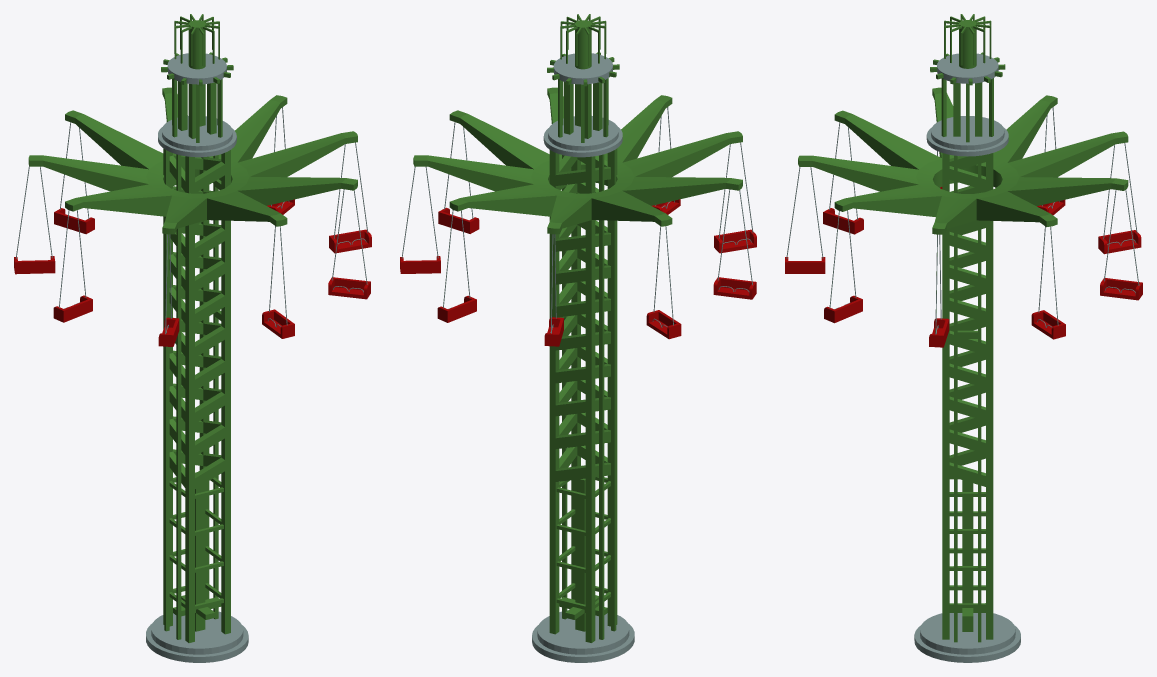
File: F_SkyFlyer.fbx
3 views of the same model, side by side, from view 1: azimuth 30°, elevation 25°; view 2: azimuth 150°, elevation 25°; view 3: azimuth 270°, elevation 25° (orthographic).
Parts seen in each view (by area): view 1: F_SkyFlyer_01; view 2: F_SkyFlyer_01; view 3: F_SkyFlyer_01.
Part boxes in pixels (<box>): F_SkyFlyer_01: <box>14,14,371,662</box>; F_SkyFlyer_01: <box>400,14,756,662</box>; F_SkyFlyer_01: <box>785,14,1142,662</box>.
Size of the model in its own units: 1582 by 2976 by 1561.
